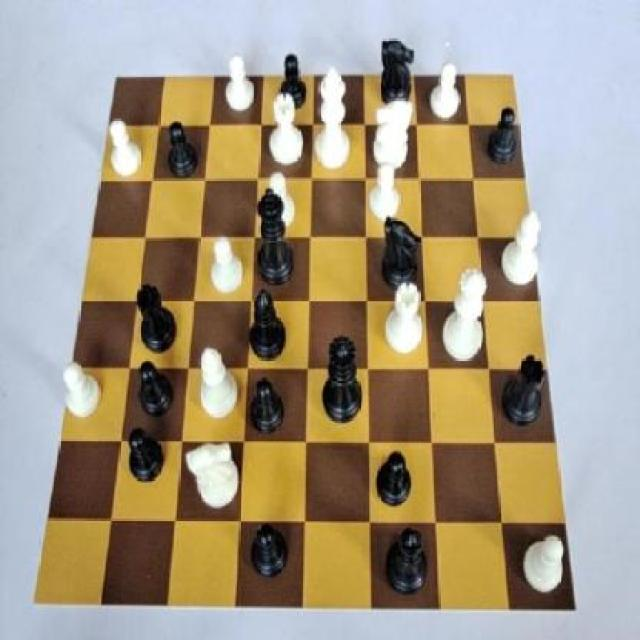bishop: (242, 277, 292, 366), (382, 516, 434, 600)
black-bishop: (249, 182, 301, 292)
black-king: (374, 204, 430, 298), (371, 28, 418, 112)
black-knight: (371, 440, 421, 519), (242, 366, 288, 446), (129, 349, 178, 424), (120, 417, 166, 488), (244, 517, 290, 588), (483, 96, 521, 176), (162, 117, 202, 181), (276, 49, 312, 113)
black-pawn: (309, 328, 370, 434)
black-queen: (497, 346, 552, 433), (130, 274, 186, 358)
black-rook: (494, 197, 546, 293), (191, 335, 243, 428)
white-bishop: (312, 62, 358, 180)
white-king: (180, 439, 245, 516), (368, 91, 418, 174)
white-knight: (54, 350, 108, 424), (518, 523, 568, 602), (204, 232, 250, 300), (105, 112, 147, 182), (428, 51, 465, 128), (366, 158, 407, 227), (260, 169, 302, 234), (222, 48, 256, 115)
white-pawn: (435, 258, 490, 371)
white-queen: (383, 274, 428, 366), (268, 88, 308, 170)
